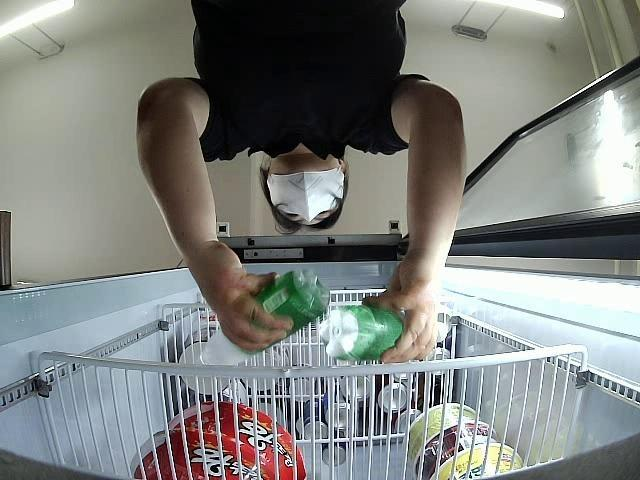18_trevi: (202, 270, 326, 367), (320, 300, 403, 364)
